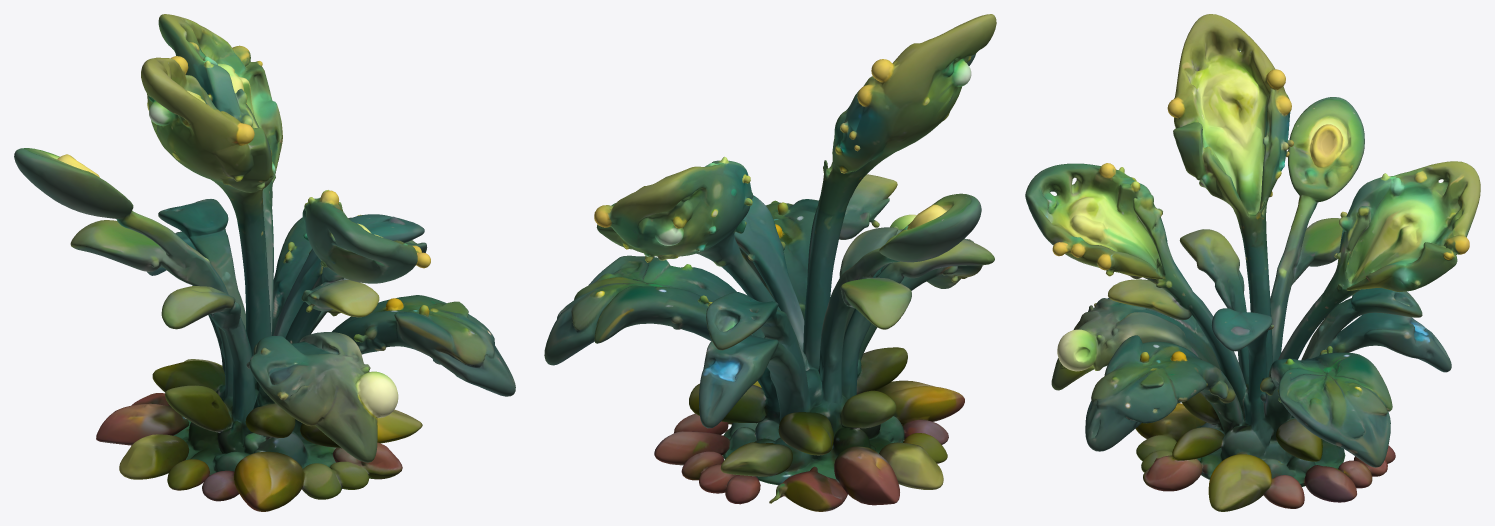
Rendered from nature-glowing-plant.glb.
The picture shows the model from 3 angles, left to right: view 1: azimuth 30°, elevation 25°; view 2: azimuth 150°, elevation 25°; view 3: azimuth 270°, elevation 25°; orthographic projection. The views are drawn at different scales.
Visible parts, largest first — view 1: tripo_node_d7378992-132e-4190-b0ce-b1dc99716544; view 2: tripo_node_d7378992-132e-4190-b0ce-b1dc99716544; view 3: tripo_node_d7378992-132e-4190-b0ce-b1dc99716544.
Part boxes in pixels (x1,y1,x2,y2): tripo_node_d7378992-132e-4190-b0ce-b1dc99716544: [14, 14, 515, 511]; tripo_node_d7378992-132e-4190-b0ce-b1dc99716544: [544, 14, 996, 511]; tripo_node_d7378992-132e-4190-b0ce-b1dc99716544: [1025, 14, 1480, 511].
Bounding box in the file's own units: 0.9537 × 1 × 1.07.
1 material, 1 textured.
